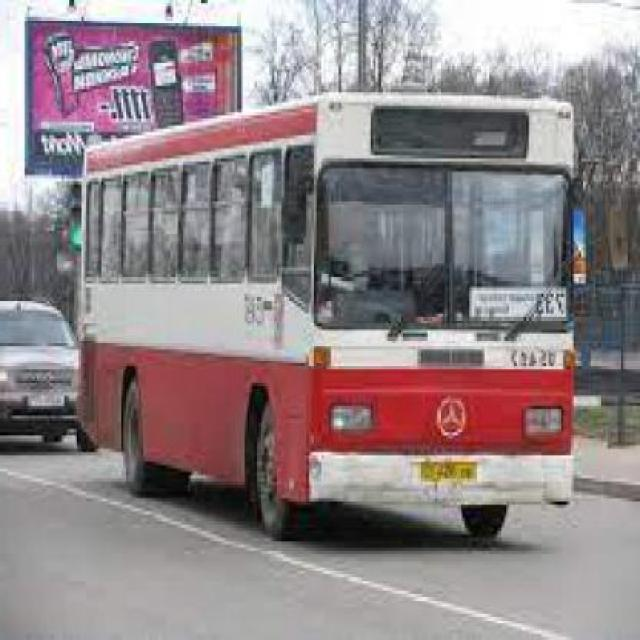bus: (78, 92, 577, 542)
car: (0, 303, 69, 450)
